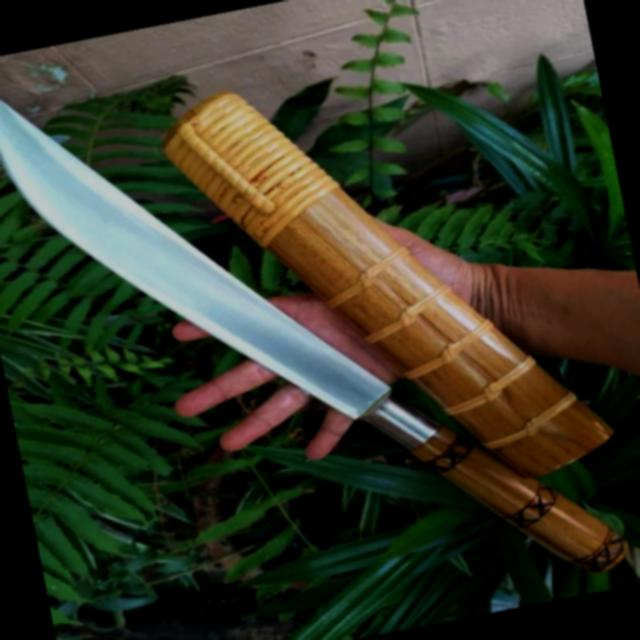short sword: (0, 0, 638, 640)
